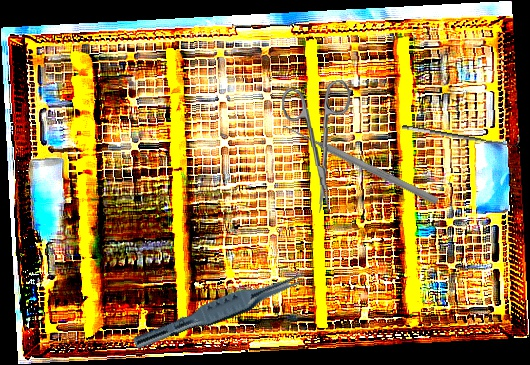Hook Surgical: (401, 115, 521, 152)
Iris Scissors: (281, 79, 356, 215)
Pusher: (281, 121, 440, 206)
Tissue Forceps: (131, 261, 312, 360)
